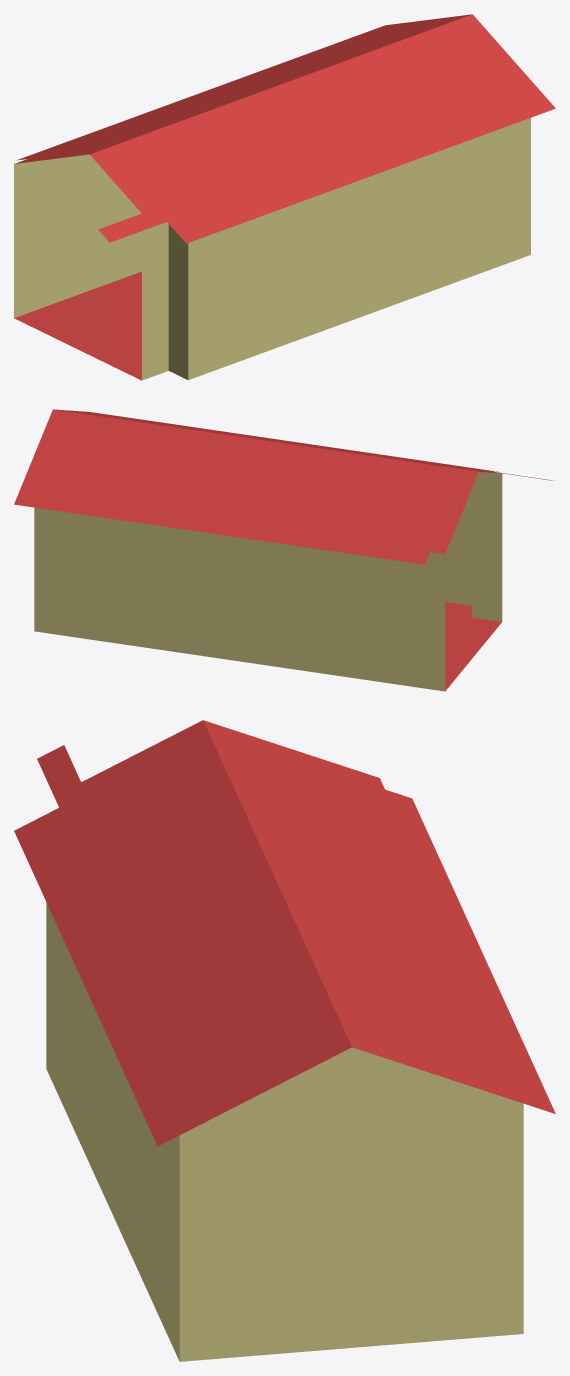
3 views of the same model, one above another, from view 1: azimuth 30°, elevation 25°; view 2: azimuth 150°, elevation 25°; view 3: azimuth 270°, elevation 25° (orthographic). The views are drawn at different scales.
Bounding box in the file's own units: 23.7 × 14.65 × 9.32.
